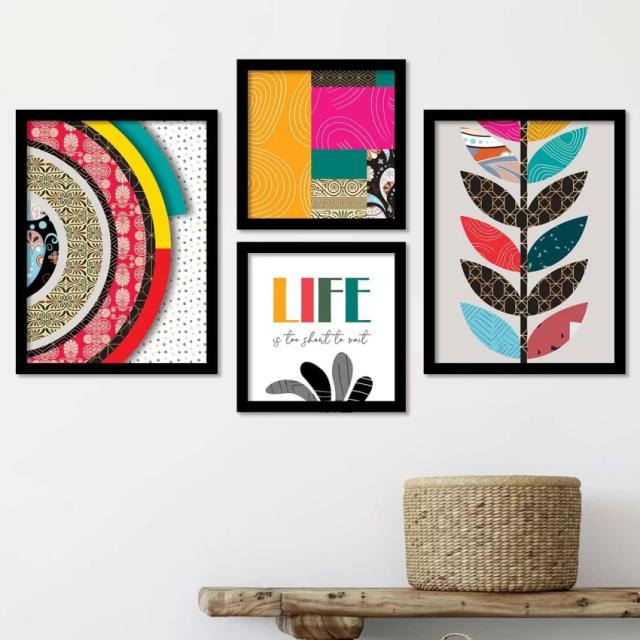painting: (16, 107, 218, 374), (425, 108, 626, 375), (236, 58, 407, 226), (238, 243, 409, 410)
